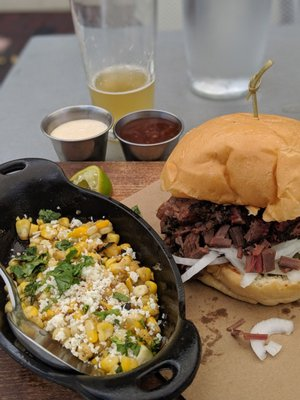pizza: (69, 0, 158, 134)
soup: (157, 110, 300, 306)
sushi: (0, 172, 191, 398), (40, 105, 112, 162), (114, 110, 183, 161)
